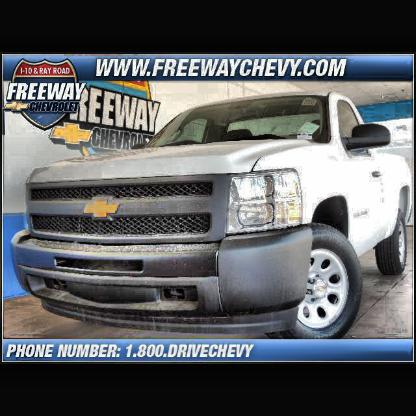Chevrolet Silverado 1500 Regular Cab 2012: (12, 92, 414, 339)
